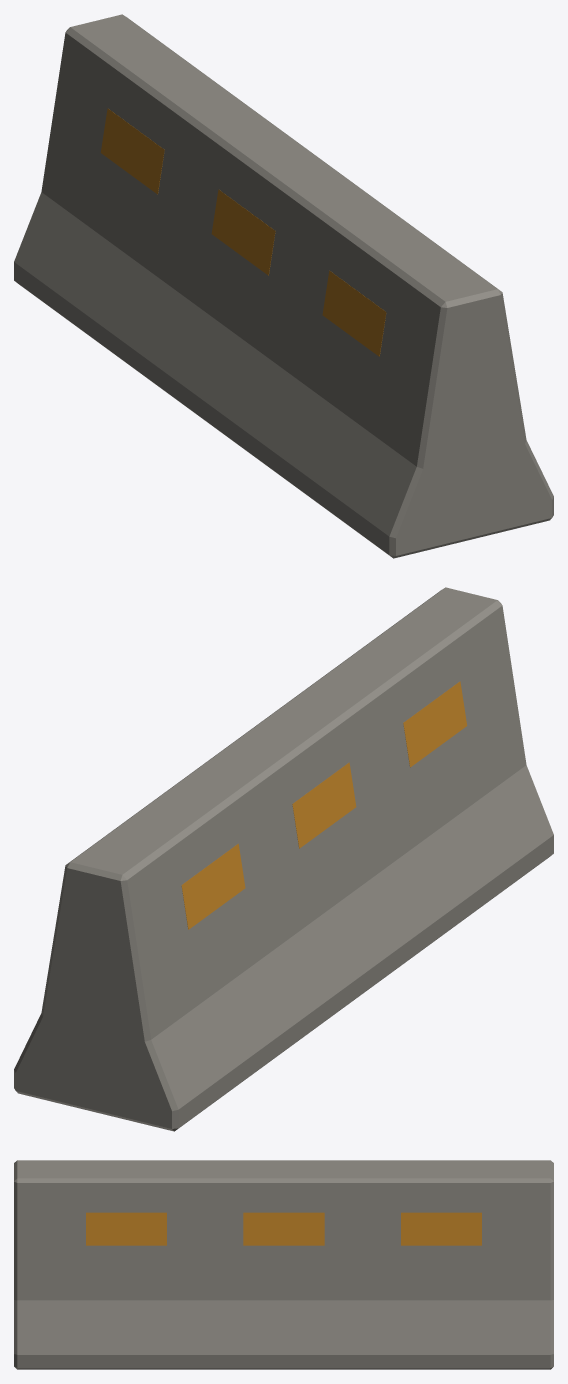
File: barrier.glb
3 views of the same model, one above another, from view 1: azimuth 30°, elevation 25°; view 2: azimuth 150°, elevation 25°; view 3: azimuth 270°, elevation 25° (orthographic). The views are drawn at different scales.
Parts seen in each view (by area): view 1: barrier; view 2: barrier; view 3: barrier.
Boxes of the visible parts, bbox=[...] form: barrier: bbox=[14, 14, 553, 558]; barrier: bbox=[14, 587, 553, 1131]; barrier: bbox=[14, 1160, 553, 1369].
Bounding box in the file's own units: 0.6 × 0.85 × 2.4.
